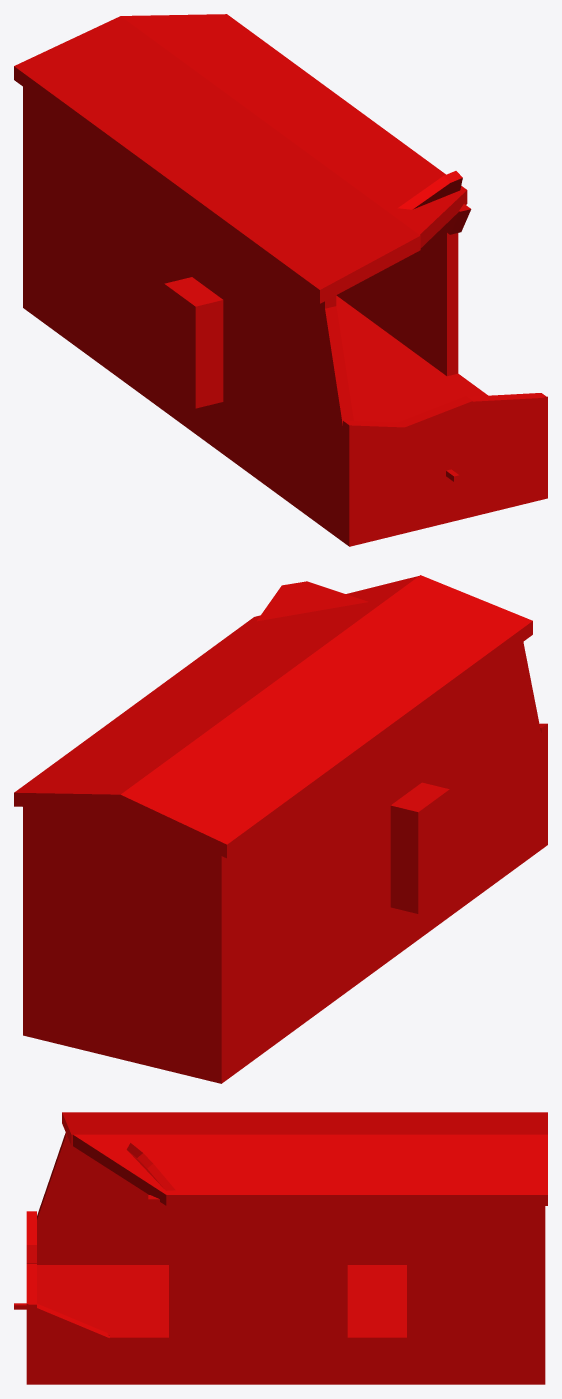
File: SM_Bld_Trailer_Damaged_01_Collision.fbx
3 renders of one model, top to bottom at view 1: azimuth 30°, elevation 25°; view 2: azimuth 150°, elevation 25°; view 3: azimuth 270°, elevation 25°, orthographic. The views are drawn at different scales.
Parts seen in each view (by area): view 1: SM_Bld_Trailer_Damaged_01_Collision; view 2: SM_Bld_Trailer_Damaged_01_Collision; view 3: SM_Bld_Trailer_Damaged_01_Collision.
Part boxes in pixels (box(x1,y1,x2,y2)): SM_Bld_Trailer_Damaged_01_Collision: box(14, 14, 547, 546); SM_Bld_Trailer_Damaged_01_Collision: box(14, 575, 547, 1083); SM_Bld_Trailer_Damaged_01_Collision: box(14, 1112, 547, 1384).
Bounding box in the file's own units: 382 × 432 × 953.
